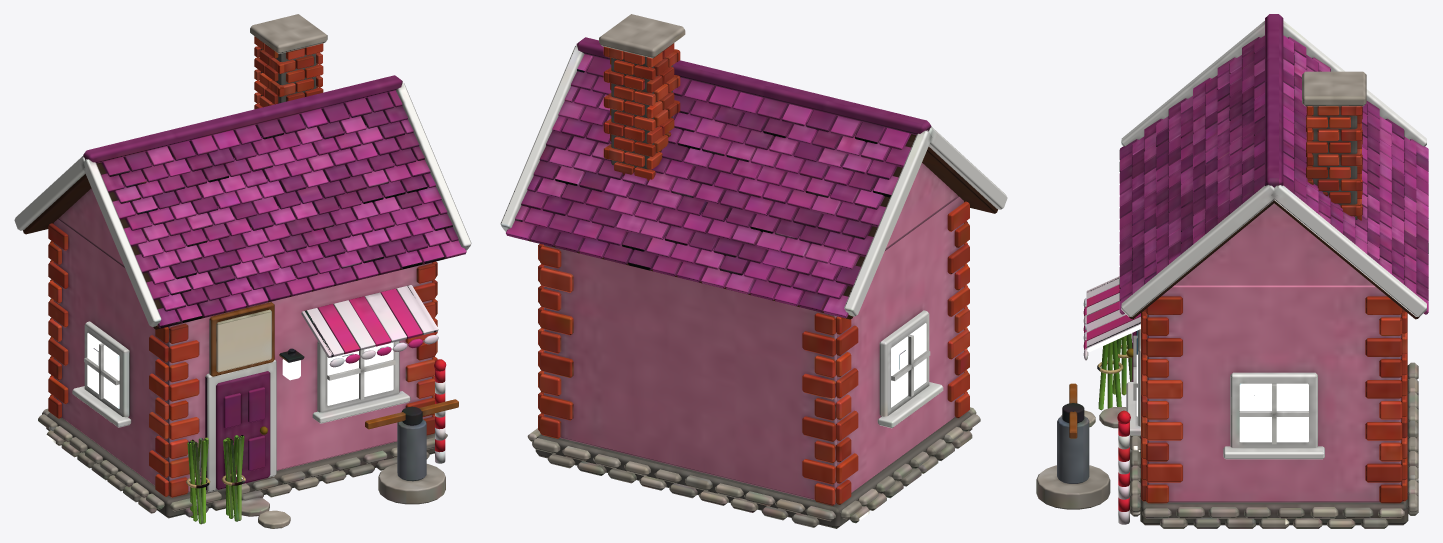
File: sugar_mill.glb
3 views of the same model, side by side, from view 1: azimuth 30°, elevation 25°; view 2: azimuth 150°, elevation 25°; view 3: azimuth 270°, elevation 25° (orthographic). The views are drawn at different scales.
Parts seen in each view (by area): view 1: sugar_mill, spinY_sweep; view 2: sugar_mill; view 3: sugar_mill, spinY_sweep.
Boxes of the visible parts, box(x1,y1,x2,y2) form: sugar_mill: box(14, 14, 471, 528); spinY_sweep: box(365, 399, 458, 429); sugar_mill: box(500, 14, 1007, 528); sugar_mill: box(1036, 14, 1428, 528); spinY_sweep: box(1062, 383, 1084, 438).
Bounding box in the file's own units: 1.74 × 1.95 × 1.7.
1 material, 1 textured.
